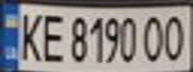0: (118, 12, 142, 63)
1: (87, 12, 106, 63)
8: (66, 11, 90, 63)
9: (103, 14, 124, 63)
E: (36, 10, 69, 63)
K: (15, 8, 45, 63)
O: (139, 11, 169, 64), (160, 11, 190, 63)
